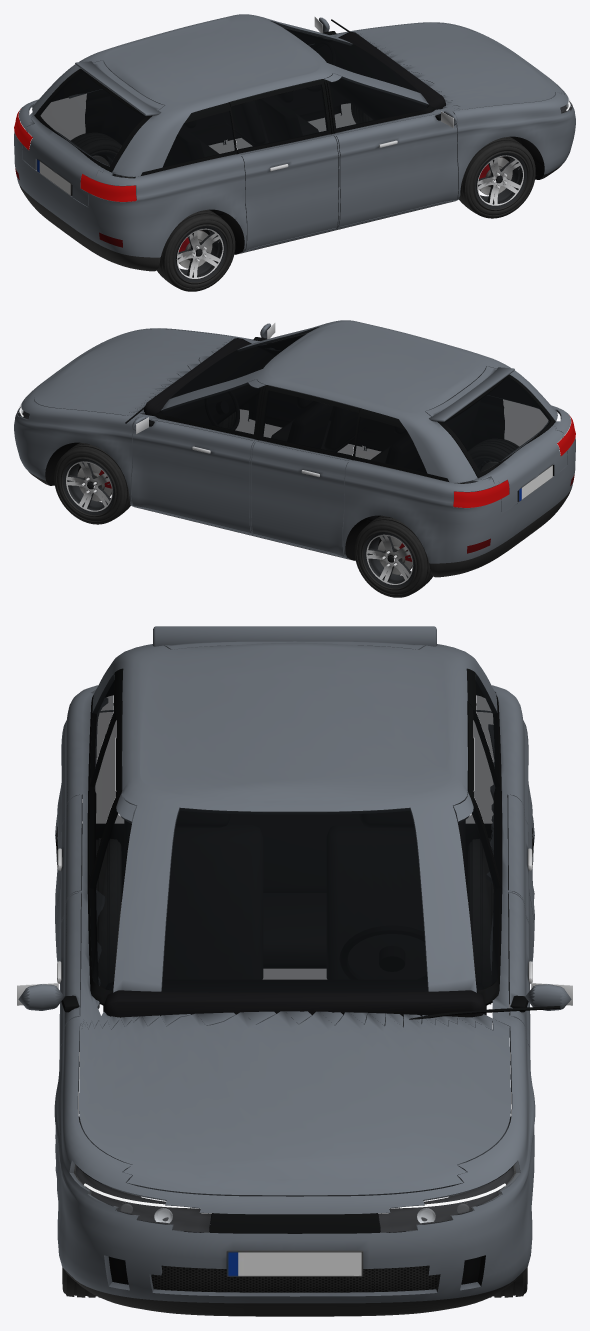
File: car-hi-v1.glb
The picture shows the model from 3 angles, top to bottom: view 1: azimuth 30°, elevation 25°; view 2: azimuth 150°, elevation 25°; view 3: azimuth 270°, elevation 25°; orthographic projection. The views are drawn at different scales.
Visible parts, largest first — view 1: body, interior, door_FR_panel, door_RR_panel, hood_panel, glass_rear, tailgate_panel, glass_RR, glass_FR, tyre_RR, glass_front, glass_QR (+5 smaller); view 2: body, interior, door_FL_panel, door_RL_panel, hood_panel, glass_rear, tailgate_panel, glass_RL, glass_FL, tyre_RL, glass_front, glass_QL (+5 smaller); view 3: body, hood_panel, interior, glass_front, lights_front, glass_FL, glass_FR, door_FR_panel, door_FL_panel, door_RR_panel, door_RL_panel, tyre_RL (+8 smaller).
Boxes of the visible parts, box(x1,y1,x2,y2) form: body: box(14, 14, 575, 271); interior: box(52, 28, 564, 215); door_FR_panel: box(323, 73, 458, 227); door_RR_panel: box(229, 79, 338, 250); hood_panel: box(354, 23, 564, 109); glass_rear: box(39, 70, 145, 166); tailgate_panel: box(22, 60, 164, 207); glass_RR: box(231, 85, 327, 149); glass_FR: box(329, 76, 428, 128); tyre_RR: box(157, 209, 235, 291); glass_front: box(271, 21, 419, 92); glass_QR: box(163, 111, 235, 167); body: box(14, 320, 575, 577); interior: box(25, 334, 537, 521); door_FL_panel: box(131, 379, 266, 533); door_RL_panel: box(251, 385, 360, 556); hood_panel: box(25, 329, 237, 415); glass_rear: box(444, 376, 550, 472); tailgate_panel: box(425, 366, 567, 513); glass_RL: box(262, 391, 358, 455); glass_FL: box(161, 382, 260, 434); tyre_RL: box(354, 515, 432, 597); glass_front: box(170, 327, 318, 398); glass_QL: box(354, 417, 426, 473); body: box(54, 626, 560, 1316); hood_panel: box(79, 1011, 510, 1196); interior: box(103, 682, 486, 1027); glass_front: box(162, 808, 427, 992); lights_front: box(70, 1162, 519, 1232); glass_FL: box(458, 806, 499, 990); glass_FR: box(90, 806, 131, 990); door_FR_panel: box(59, 792, 136, 1047); door_FL_panel: box(453, 792, 530, 1047); door_RR_panel: box(55, 702, 122, 962); door_RL_panel: box(467, 702, 534, 962); tyre_RL: box(468, 838, 509, 1004).
Bounding box in the file's own units: 4.29 × 1.48 × 2.12.
26 materials, 7 textured.
